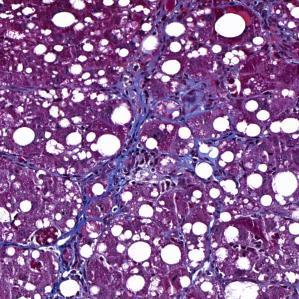fibrosis: (87, 153, 174, 216), (122, 78, 204, 125)
